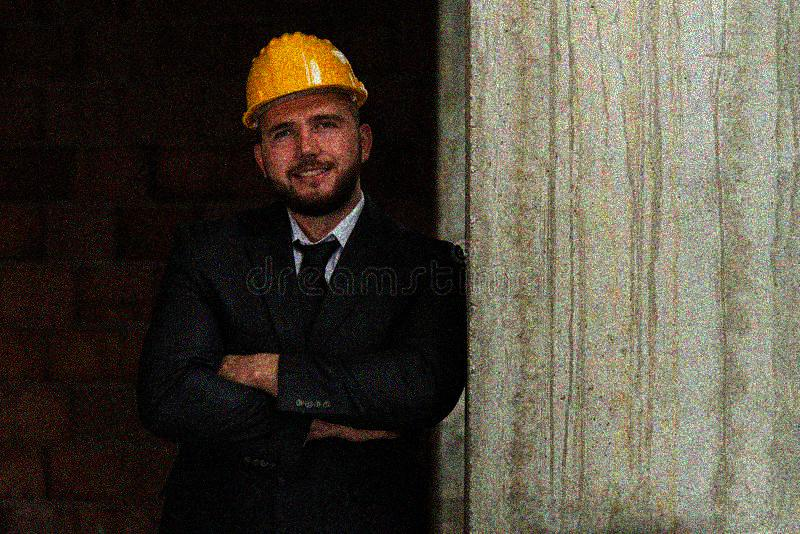helmet: (238, 30, 374, 213)
